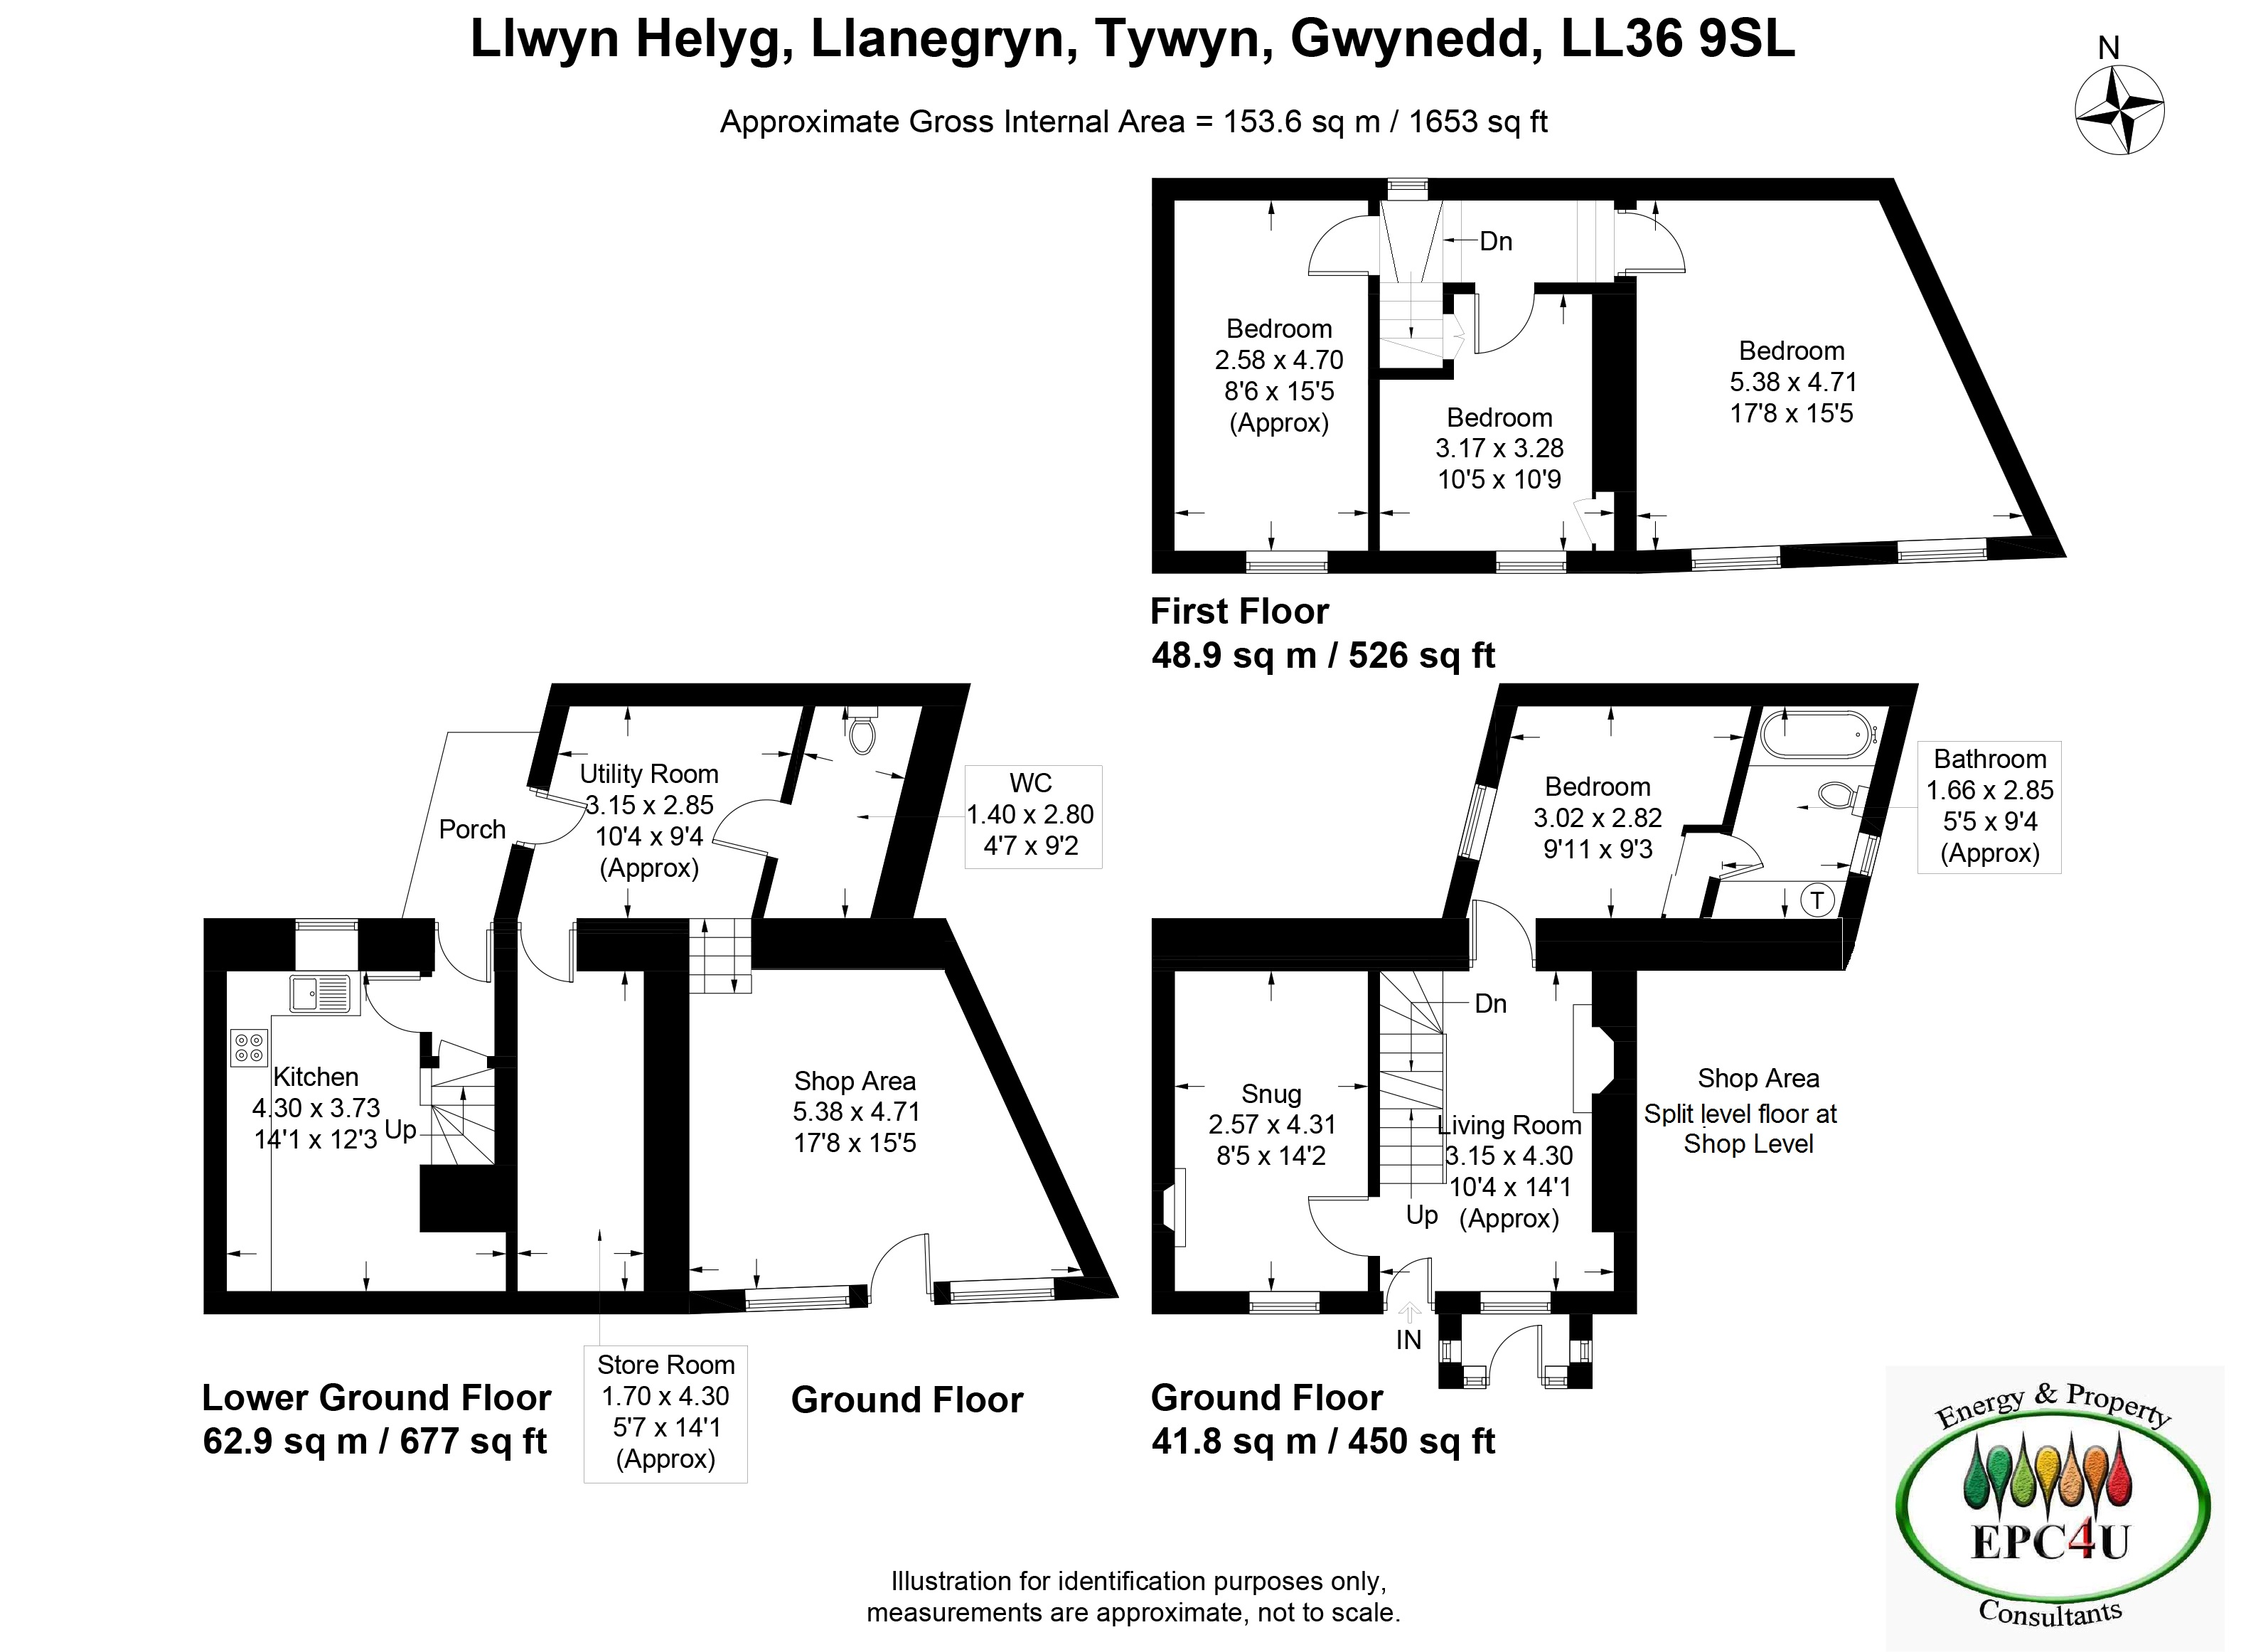door: (1303, 1194, 1368, 1263), (1303, 213, 1368, 282), (1470, 287, 1535, 356), (868, 1231, 933, 1298), (1627, 211, 1690, 280), (1470, 900, 1534, 962), (1486, 1323, 1546, 1388), (437, 932, 491, 985), (521, 932, 576, 985)
